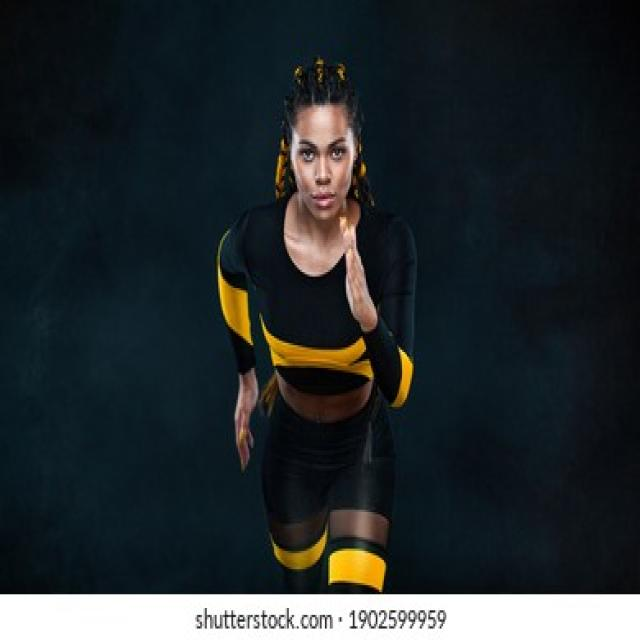running: (214, 57, 419, 590)
